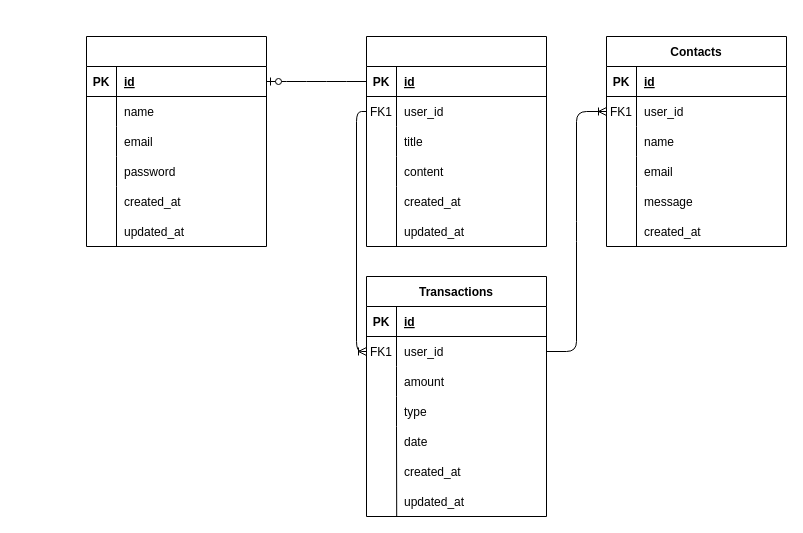
The diagram is 803 pixels wide and 533 high, and some of its shapes have lost their labels. Here are the shapes that lost their labels. From the top down, the box of each, then its label:
(86, 36, 266, 246): Users
(366, 36, 546, 246): Posts
